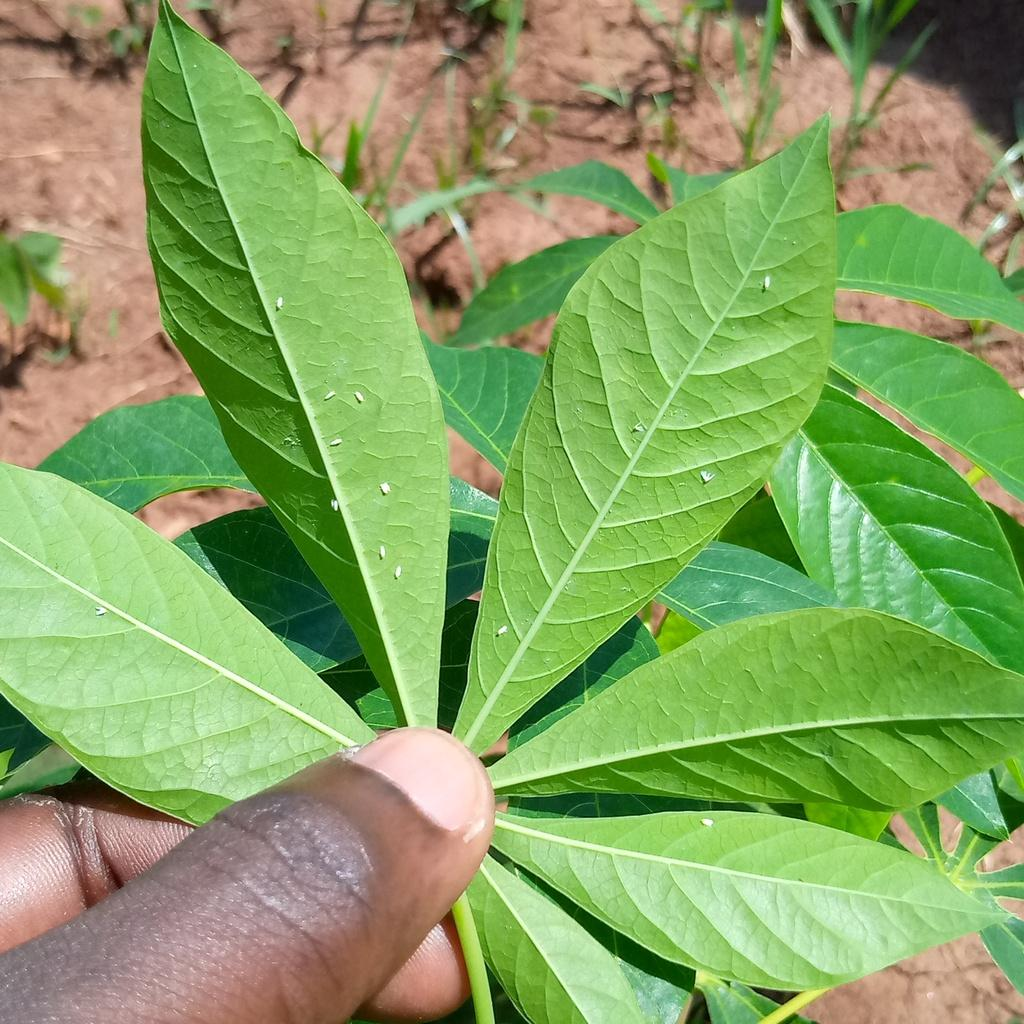adult: (700, 470, 714, 483), (379, 482, 391, 495), (496, 625, 508, 636), (354, 391, 365, 403), (633, 422, 645, 433), (94, 606, 107, 616), (862, 512, 872, 525), (700, 818, 714, 827), (763, 276, 771, 290), (275, 296, 283, 310), (324, 390, 335, 400), (330, 437, 342, 446), (394, 565, 402, 578), (331, 499, 339, 511), (379, 546, 386, 559)
